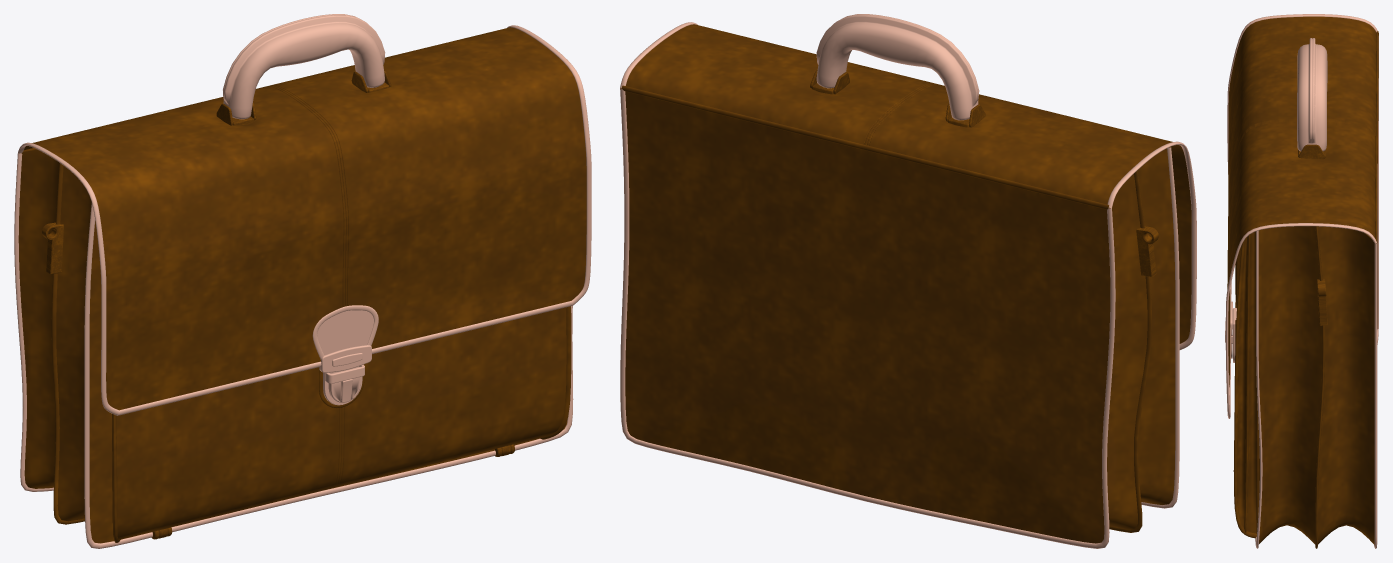
Rendered from formal_case.fbx.
3 renders of one model, left to right at view 1: azimuth 30°, elevation 25°; view 2: azimuth 150°, elevation 25°; view 3: azimuth 270°, elevation 25°, orthographic. The views are drawn at different scales.
Visible parts, largest first — view 1: briefcase_1; view 2: briefcase_1; view 3: briefcase_1.
Part boxes in pixels (x1,y1,x2,y2): briefcase_1: (14,14,591,548); briefcase_1: (620,14,1196,548); briefcase_1: (1225,14,1378,548).
Size of the model in its own units: 1.1 by 0.9415 by 0.3257.
